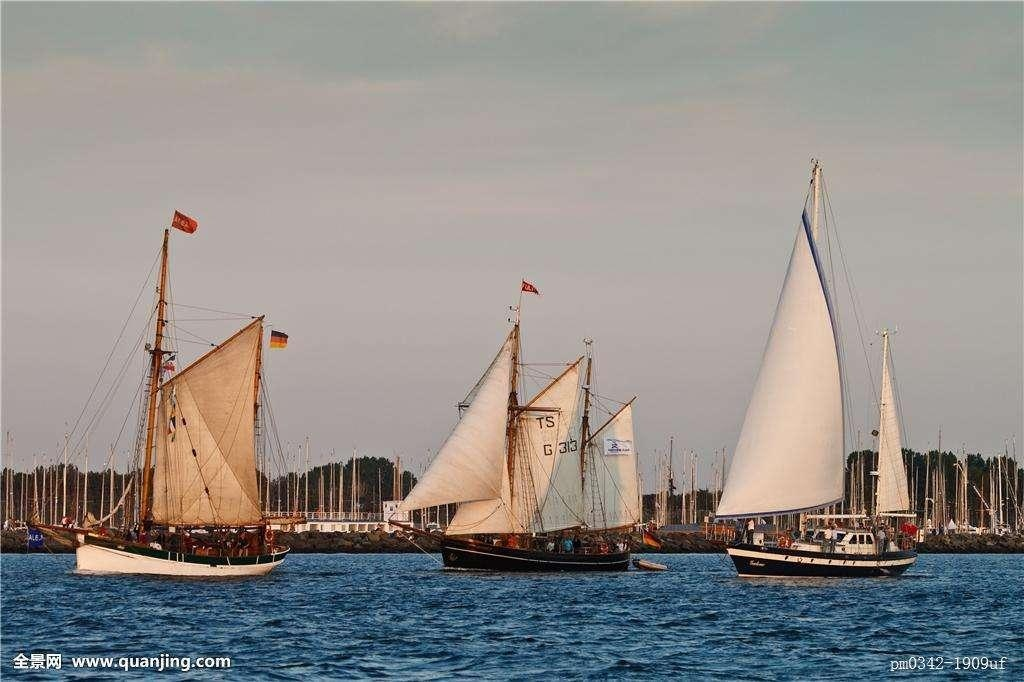fanchuan: (31, 205, 319, 587), (726, 157, 952, 580), (378, 276, 660, 575)
